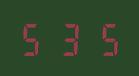five: (18, 20, 51, 56), (87, 20, 120, 56)
three: (53, 20, 86, 56)
